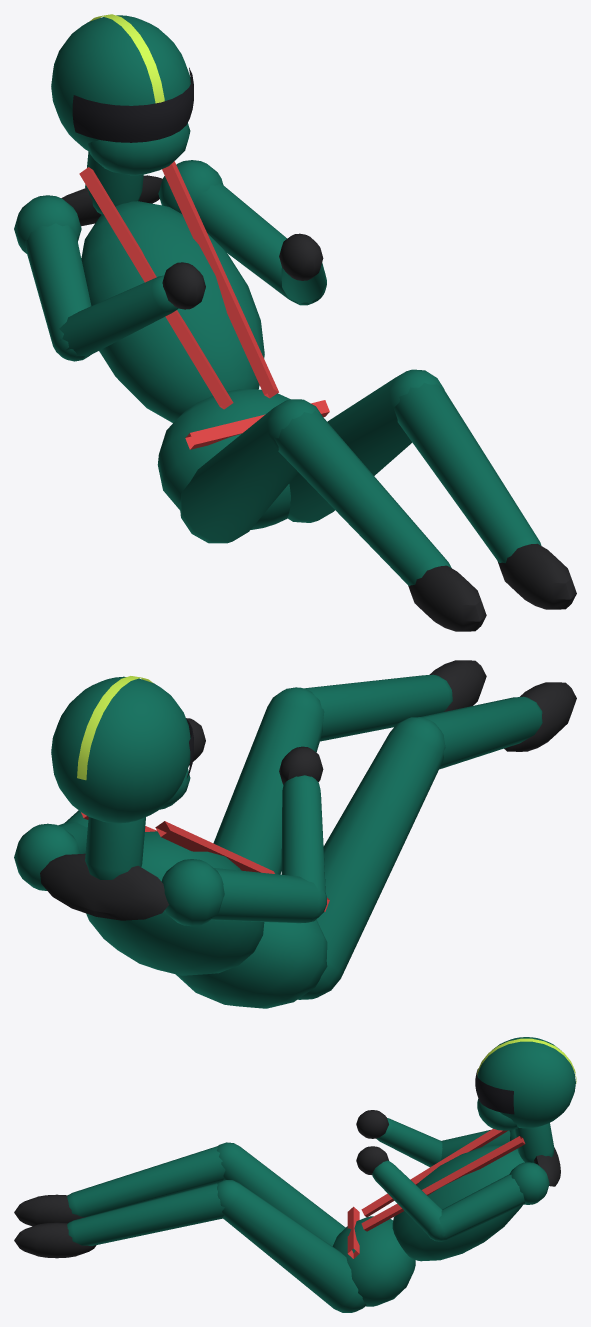
Rendered from ashton_amr26_driver.glb.
3 views of the same model, one above another, from view 1: azimuth 30°, elevation 25°; view 2: azimuth 150°, elevation 25°; view 3: azimuth 270°, elevation 25° (orthographic). The views are drawn at different scales.
Visible parts, largest first — view 1: ashton_amr26_driver; view 2: ashton_amr26_driver; view 3: ashton_amr26_driver.
Boxes of the visible parts, <box> form: ashton_amr26_driver: <box>14,14,576,631</box>; ashton_amr26_driver: <box>14,660,576,1008</box>; ashton_amr26_driver: <box>14,1037,576,1312</box>.
Bounding box in the file's own units: 0.5976 × 0.8682 × 1.7.
